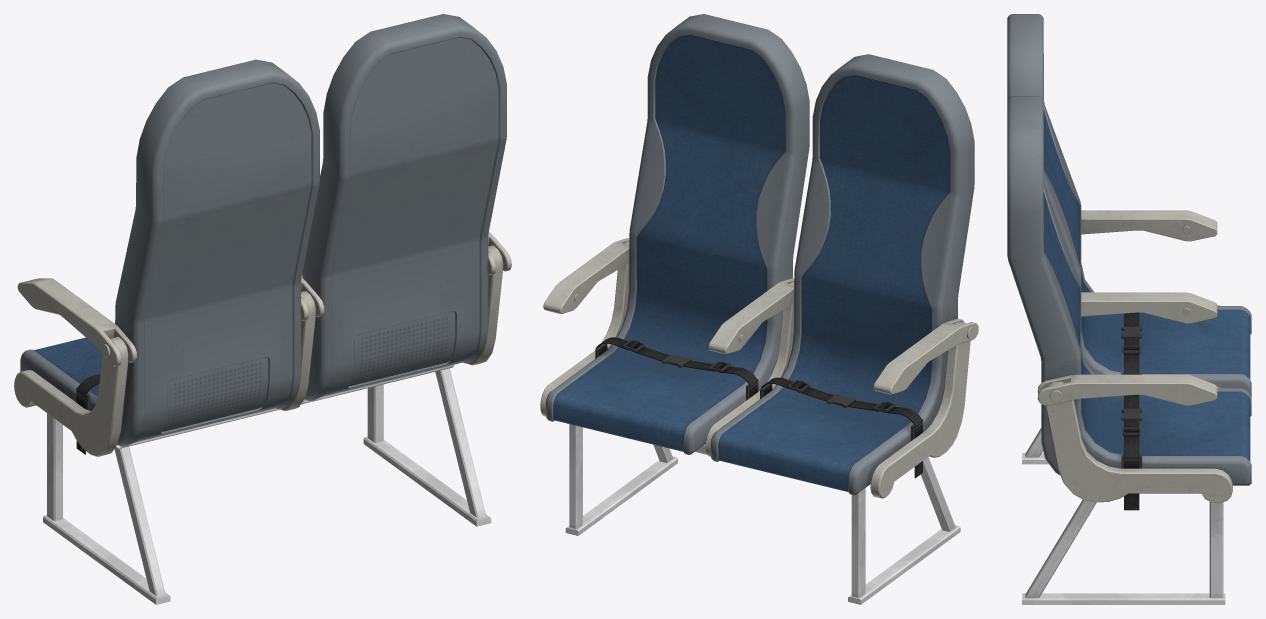
File: L_shuangrenyi.FBX
3 renders of one model, left to right at view 1: azimuth 30°, elevation 25°; view 2: azimuth 150°, elevation 25°; view 3: azimuth 270°, elevation 25°, orthographic. The views are drawn at different scales.
Visible parts, largest first — view 1: L_shuangrenyi; view 2: L_shuangrenyi; view 3: L_shuangrenyi.
Boxes of the visible parts, bbox=[...] form: L_shuangrenyi: bbox=[14, 14, 511, 604]; L_shuangrenyi: bbox=[540, 14, 978, 604]; L_shuangrenyi: bbox=[1007, 14, 1251, 604].
Size of the model in its own units: 1.02 by 1.25 by 0.6046.
